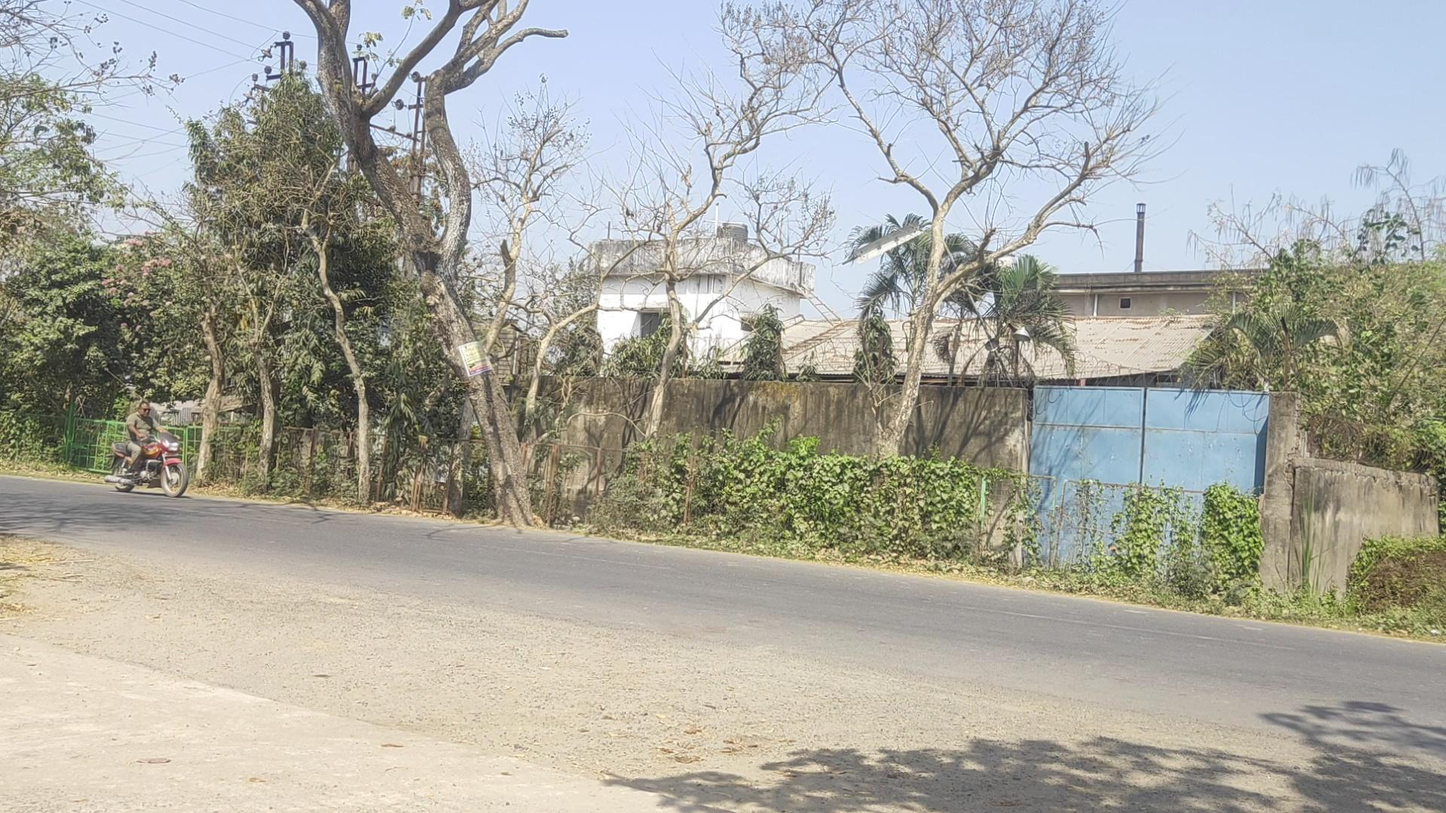bike: (104, 400, 188, 498)
